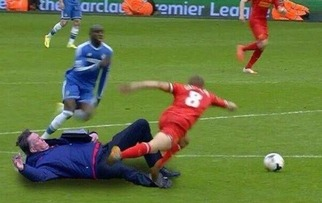fall: (8, 114, 176, 191)
